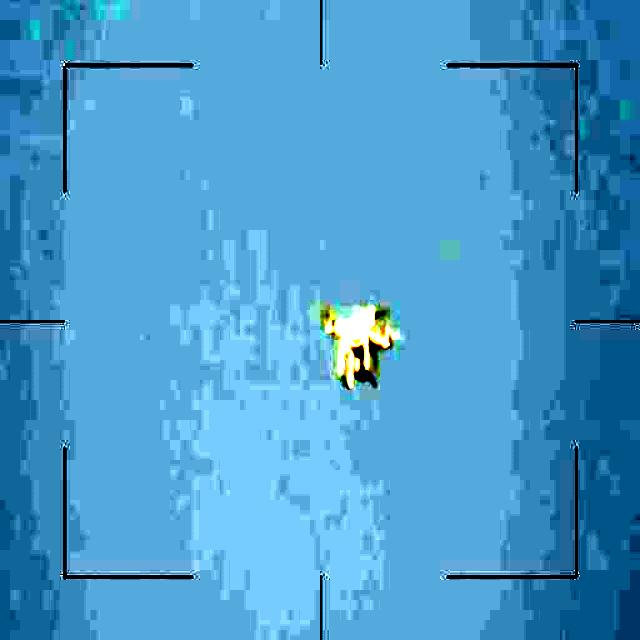bird: (316, 301, 402, 391)
